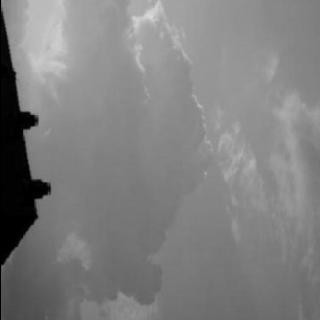Cumulus: (0, 0, 206, 320)
